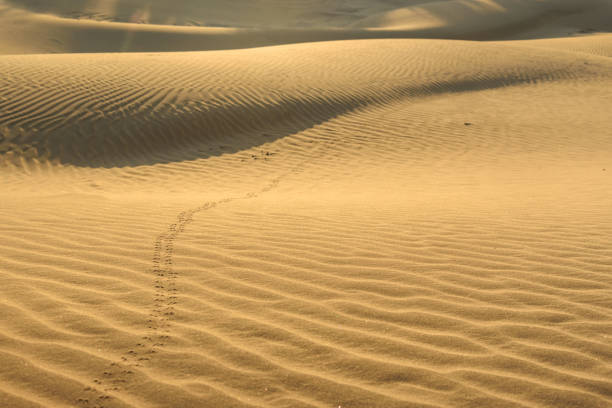animal_footprint: (76, 178, 279, 407)
